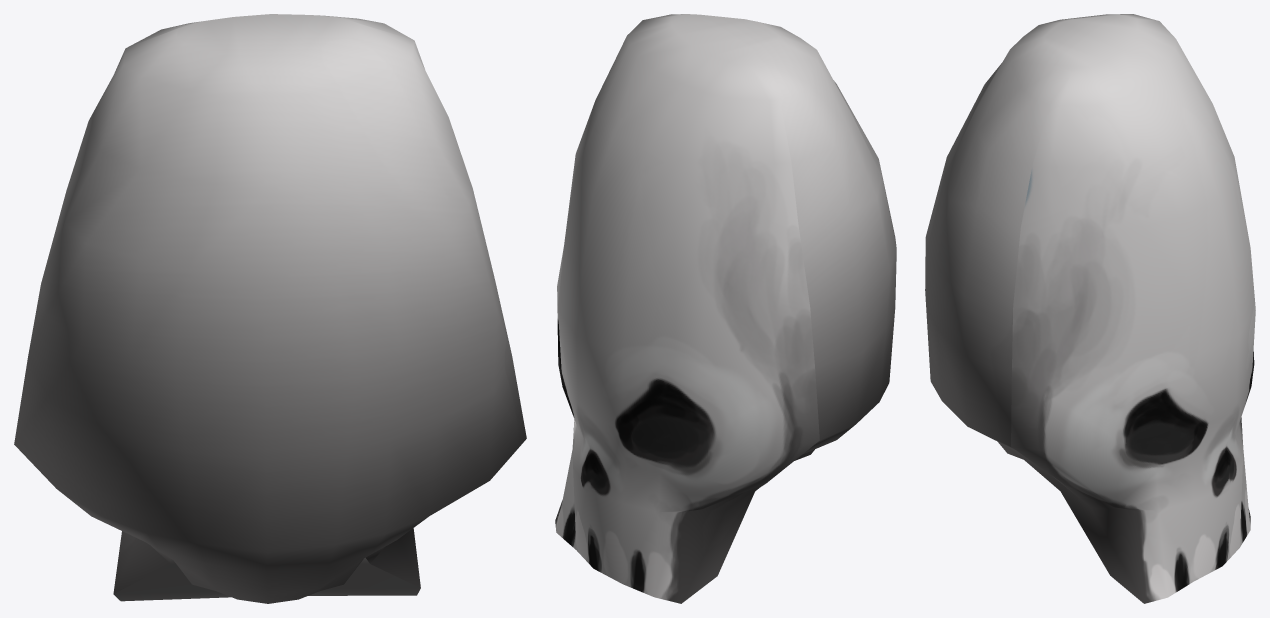
Rendered from enemy 2 death.FBX.
3 views of the same model, side by side, from view 1: azimuth 30°, elevation 25°; view 2: azimuth 150°, elevation 25°; view 3: azimuth 270°, elevation 25° (orthographic). The views are drawn at different scales.
Parts seen in each view (by area): view 1: Sphere028; view 2: Sphere028; view 3: Sphere028.
Part boxes in pixels (<box>): Sphere028: <box>14,14,526,603</box>; Sphere028: <box>555,14,896,603</box>; Sphere028: <box>925,14,1255,603</box>.
Bounding box in the file's own units: 64.52 × 93.47 × 56.68.
